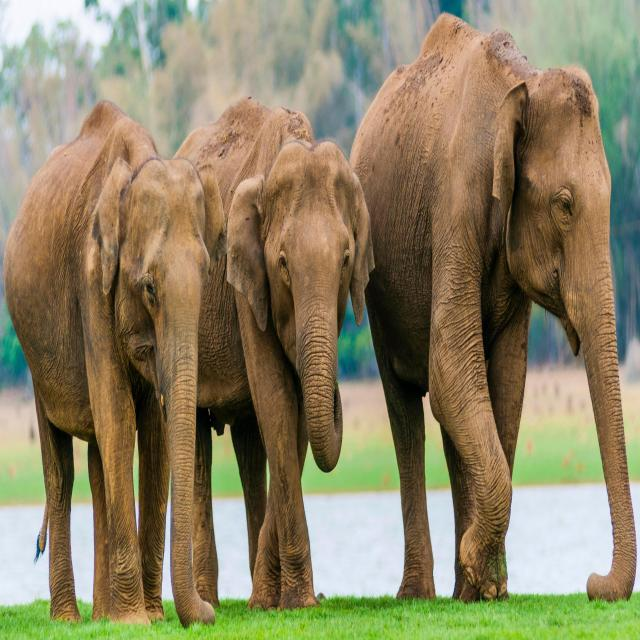Elephant: (348, 11, 640, 640), (3, 91, 227, 640), (180, 93, 378, 640)
